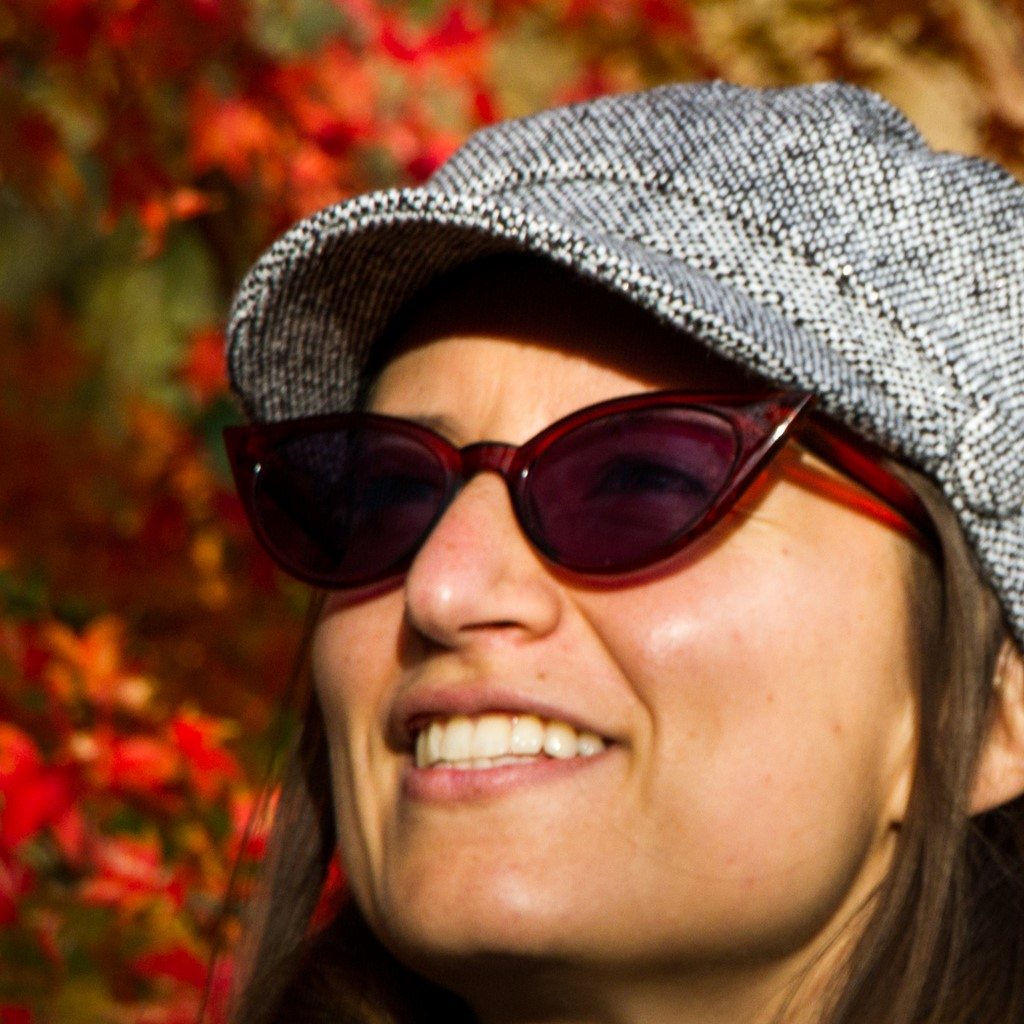sin_mascara: (292, 294, 910, 982)
